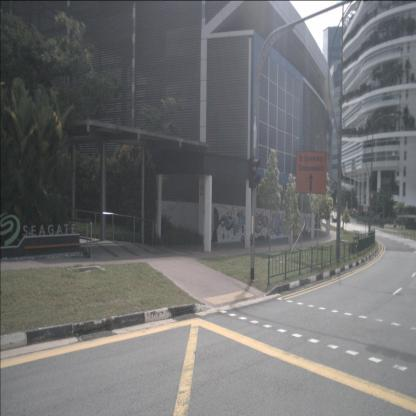vehicle-bicycle: (352, 231, 362, 255), (349, 230, 359, 253)
vehicle-car: (332, 216, 338, 223)
